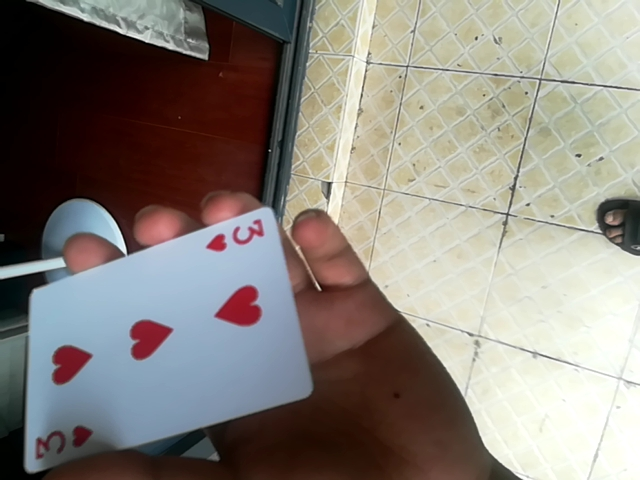hx 3: (20, 204, 311, 478)
